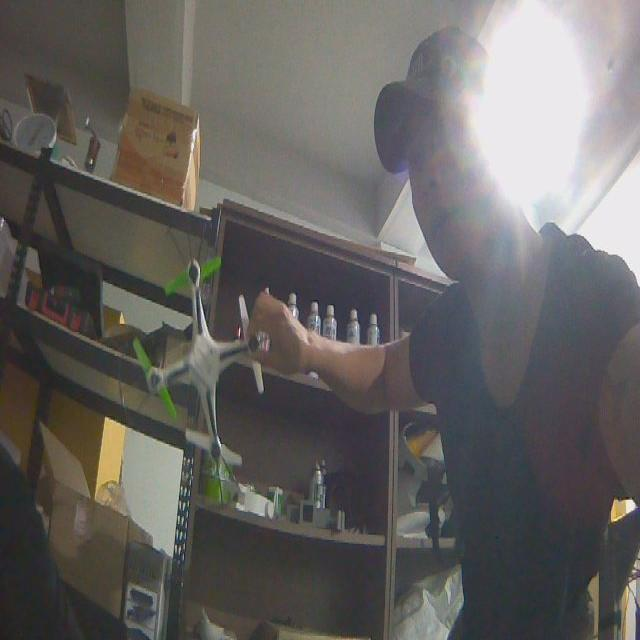drone: (118, 211, 292, 511)
